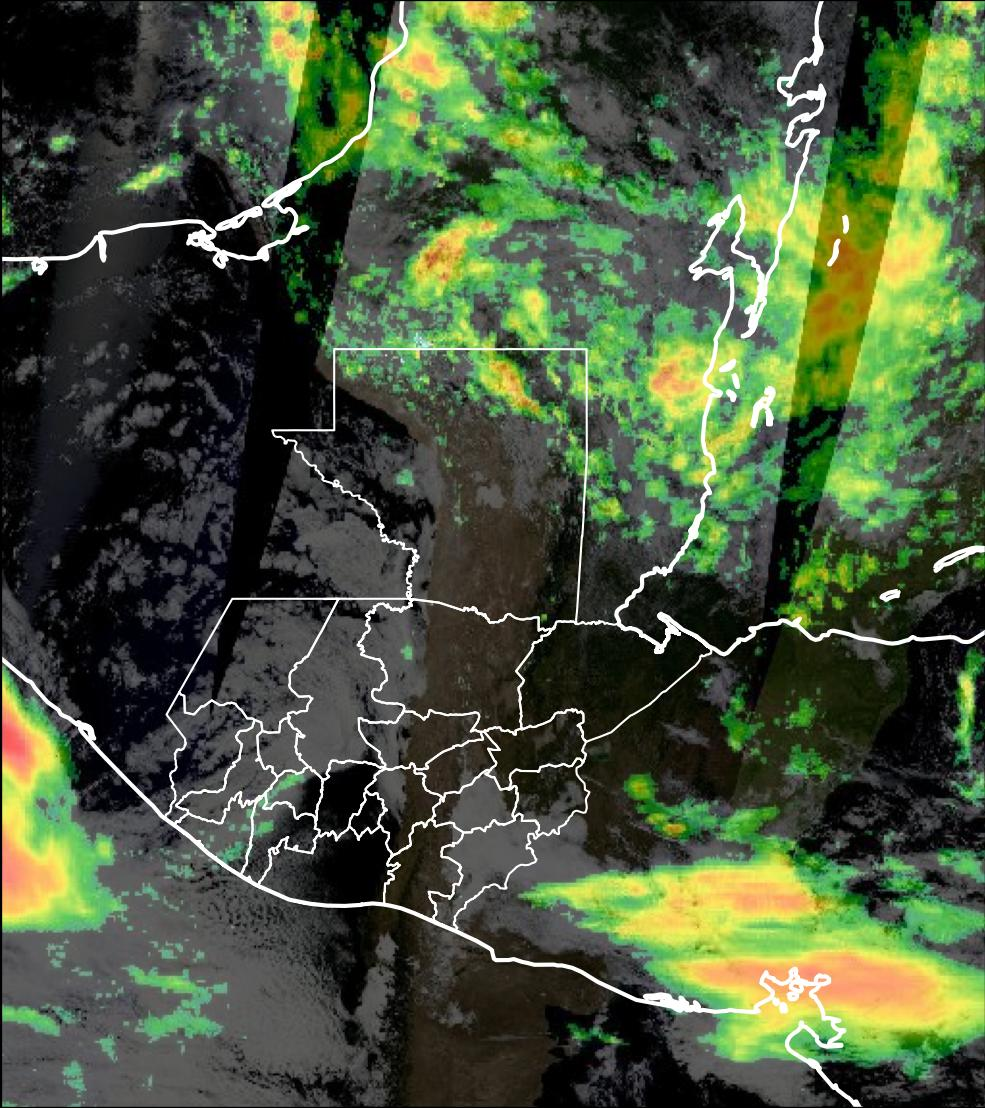precipitacion: (683, 946, 983, 1054), (1, 678, 73, 926)
